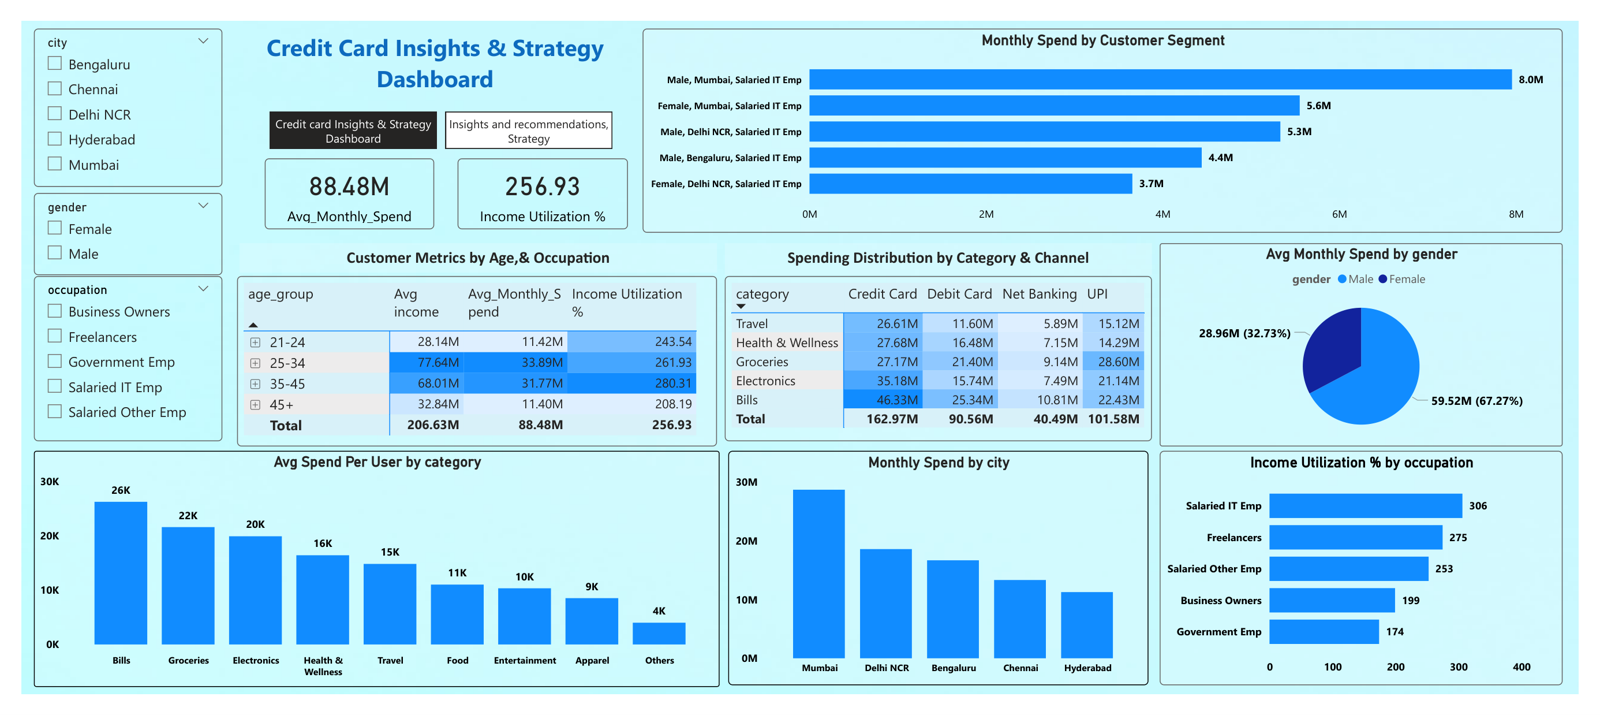

Layout of this report page (visuals, bound fields, positions):
{"tool":"powerbi","page":{"name":"Credit card Insights & Strategy Dashboard","canvas":[1800,778],"ordinal":0},"visuals":[{"type":"card","fields":{"Values":["fact_spends.Avg_Monthly_Spend"]},"box":[281.1,158.6,196,82.2],"z":0},{"type":"card","fields":{"Values":["dim_customers.Income Utilization %"]},"box":[504.5,158.6,196,82.2],"z":1000},{"type":"pivotTable","title":"Customer Segmentation by Demographics","fields":{"Values":["dim_customers.Total Avg income","fact_spends.Avg_Monthly_Spend","dim_customers.Income Utilization %"],"Rows":["dim_customers.age_group","dim_customers.occupation"]},"box":[249.4,295.5,554.9,196],"z":2000},{"type":"clusteredColumnChart","fields":{"Category":["fact_spends.category"],"Y":["fact_spends.Avg Spend Per User"]},"box":[14.4,497.3,792.8,272.4],"z":3000},{"type":"pieChart","title":"Avg Monthly Spend by gender","fields":{"Category":["dim_customers.gender"],"Y":["fact_spends.Avg_Monthly_Spend"]},"box":[1316,256.6,465.6,234.9],"z":4000},{"type":"clusteredColumnChart","title":"Monthly Spend by city","fields":{"Y":["fact_spends.Avg_Monthly_Spend"],"Category":["dim_customers.city"]},"box":[817.3,497.3,485.7,271],"z":5000},{"type":"slicer","fields":{"Values":["dim_customers.gender"]},"box":[14.4,198.9,217.6,95.1],"z":6000},{"type":"slicer","fields":{"Values":["dim_customers.city"]},"box":[14.4,8.6,217.6,183.1],"z":7000},{"type":"slicer","fields":{"Values":["dim_customers.occupation"]},"box":[14.4,295.5,217.6,190.3],"z":8000},{"type":"pivotTable","fields":{"Rows":["fact_spends.category"],"Values":["fact_spends.Total Spend"],"Columns":["fact_spends.payment_type"]},"box":[812.9,295.5,494.4,190.3],"z":9000},{"type":"clusteredBarChart","title":"Monthly Spend by Customer Segment","fields":{"Y":["fact_spends.Avg_Monthly_Spend"],"Category":["dim_customers.Customer Segment"]},"box":[717.8,8.6,1063.7,236.4],"z":10000},{"type":"textbox","box":[252.2,256.6,552.1,34.6],"z":11000},{"type":"textbox","box":[812.9,256.6,494.4,37.5],"z":12000},{"type":"clusteredBarChart","fields":{"Category":["dim_customers.occupation"],"Y":["dim_customers.Income Utilization %"]},"box":[1316,497.3,465.6,271],"z":13000},{"type":"textbox","box":[253.7,7.2,448.3,89.4],"z":14000},{"type":"pageNavigator","box":[286.8,105.2,396.4,43.2],"z":15000}]}

Visuals, with their boxes on the page's 1800x778 design canvas (x1, y1, x2, y2). These are canvas units, not pixel positions in the 1600x715 screenshot, which may show the page scaled, cropped or inside an application window:
card - fact_spends.Avg_Monthly_Spend: bbox=(281, 159, 477, 241)
card - dim_customers.Income Utilization %: bbox=(504, 159, 700, 241)
"Customer Segmentation by Demographics" pivotTable: bbox=(249, 296, 804, 492)
clusteredColumnChart - fact_spends.category x fact_spends.Avg Spend Per User: bbox=(14, 497, 807, 770)
"Avg Monthly Spend by gender" pieChart: bbox=(1316, 257, 1782, 492)
"Monthly Spend by city" clusteredColumnChart: bbox=(817, 497, 1303, 768)
slicer - dim_customers.gender: bbox=(14, 199, 232, 294)
slicer - dim_customers.city: bbox=(14, 9, 232, 192)
slicer - dim_customers.occupation: bbox=(14, 296, 232, 486)
pivotTable - fact_spends.category x fact_spends.Total Spend: bbox=(813, 296, 1307, 486)
"Monthly Spend by Customer Segment" clusteredBarChart: bbox=(718, 9, 1782, 245)
textbox: bbox=(252, 257, 804, 291)
textbox: bbox=(813, 257, 1307, 294)
clusteredBarChart - dim_customers.occupation x dim_customers.Income Utilization %: bbox=(1316, 497, 1782, 768)
textbox: bbox=(254, 7, 702, 97)
pageNavigator: bbox=(287, 105, 683, 148)
